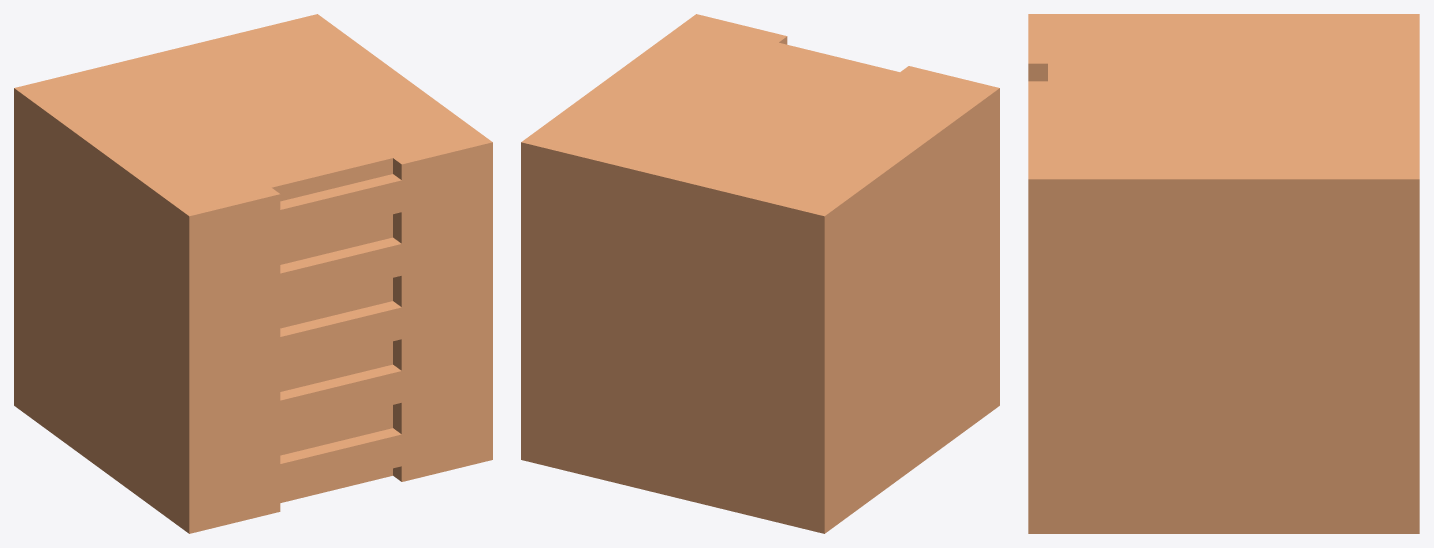
The model's file is Stairs_001.fbx.
3 renders of one model, left to right at view 1: azimuth 30°, elevation 25°; view 2: azimuth 150°, elevation 25°; view 3: azimuth 270°, elevation 25°, orthographic. The views are drawn at different scales.
Parts seen in each view (by area): view 1: Stairs.001; view 2: Stairs.001; view 3: Stairs.001.
Boxes of the visible parts, box(x1,y1,x2,y2) form: Stairs.001: box(14, 14, 492, 533); Stairs.001: box(521, 14, 999, 533); Stairs.001: box(1028, 14, 1419, 533).
Size of the model in its own units: 100 by 100 by 100.
